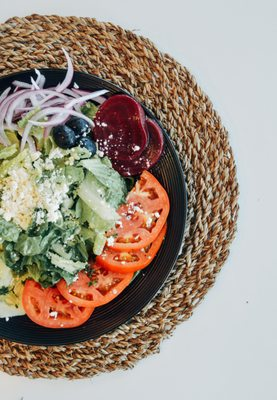sandwich: (0, 85, 175, 333)
